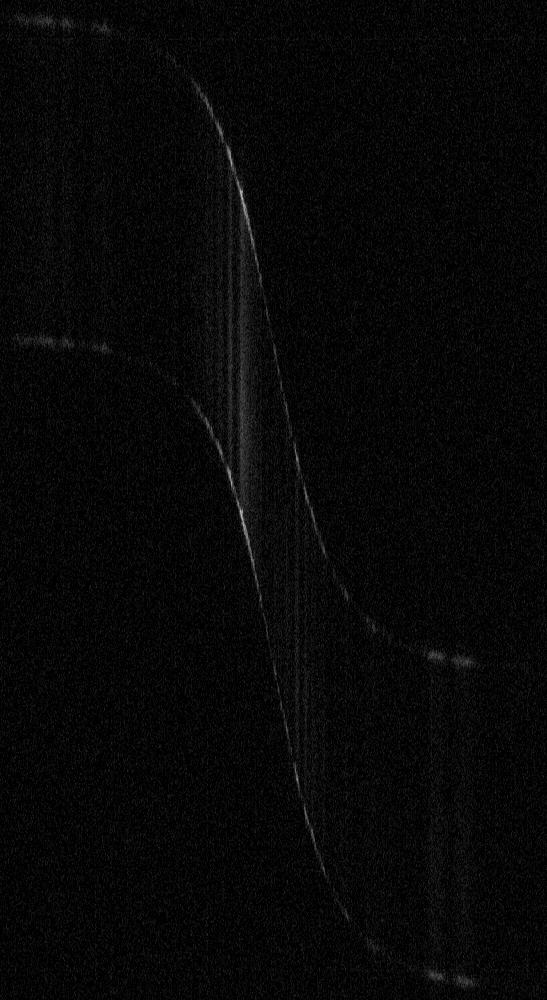signal: (0, 0, 546, 999)
